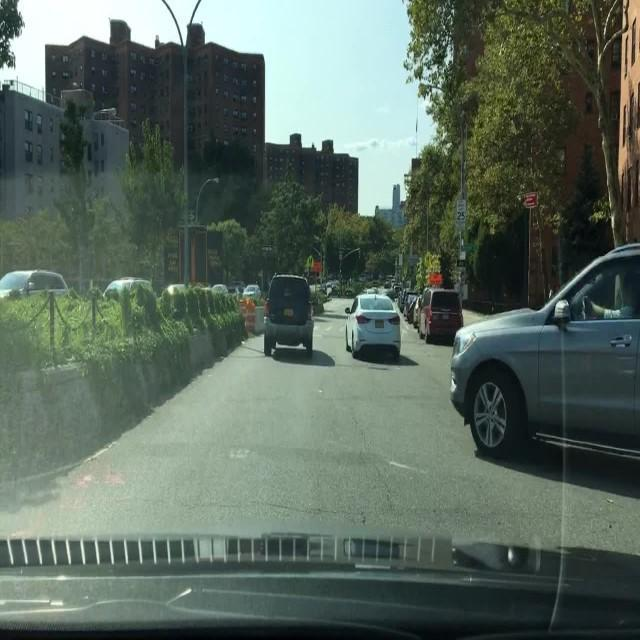normal: (325, 286, 416, 370), (263, 260, 332, 367)
